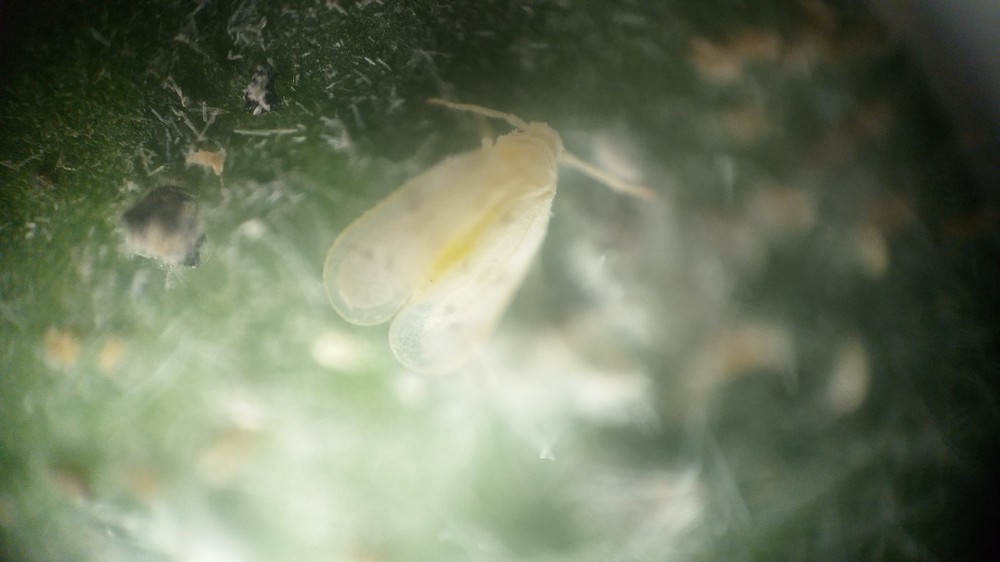Mosca Blanca: (290, 76, 699, 395)
